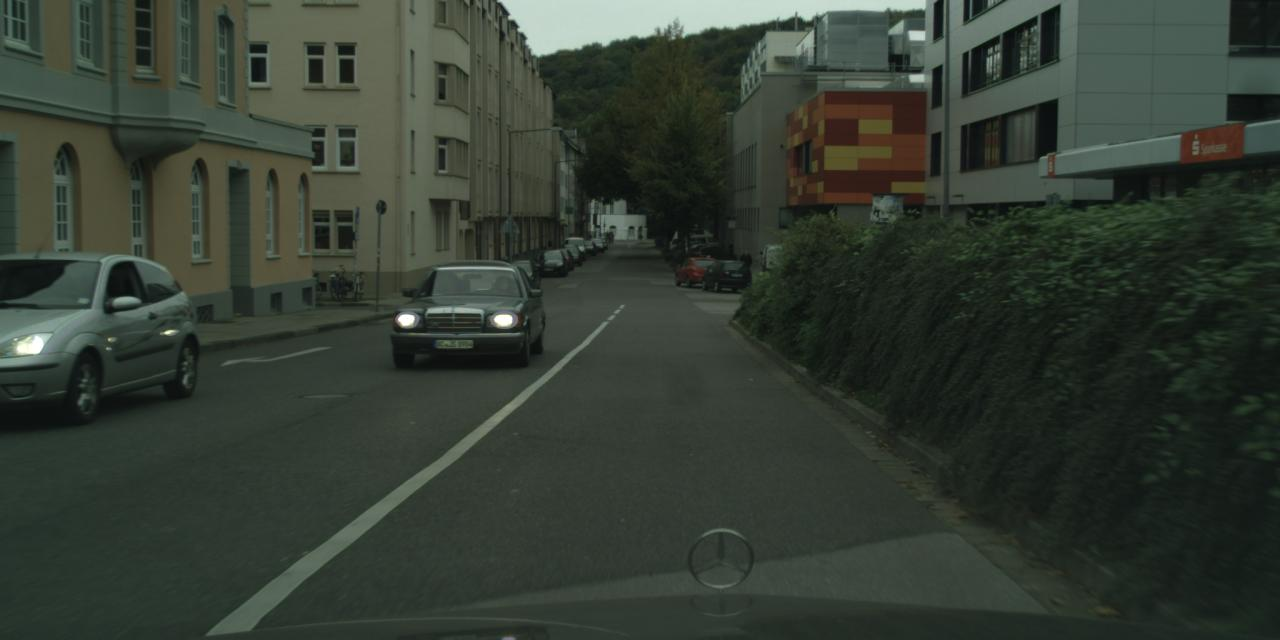ped: (740, 249, 751, 279), (608, 230, 613, 244), (605, 230, 609, 240)
